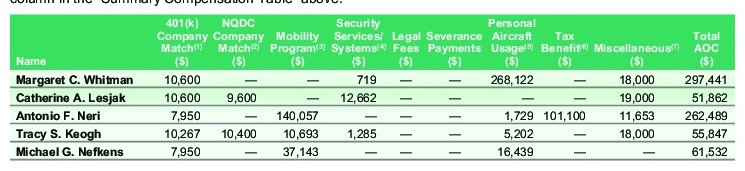table: (0, 0, 745, 171)
